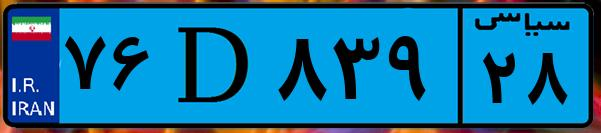2: (475, 38, 525, 113)
3: (330, 28, 385, 110)
6: (110, 28, 158, 98)
7: (57, 26, 110, 100)
8: (270, 28, 330, 110), (525, 38, 570, 115)
9: (385, 28, 445, 110)
D: (158, 12, 270, 120)
